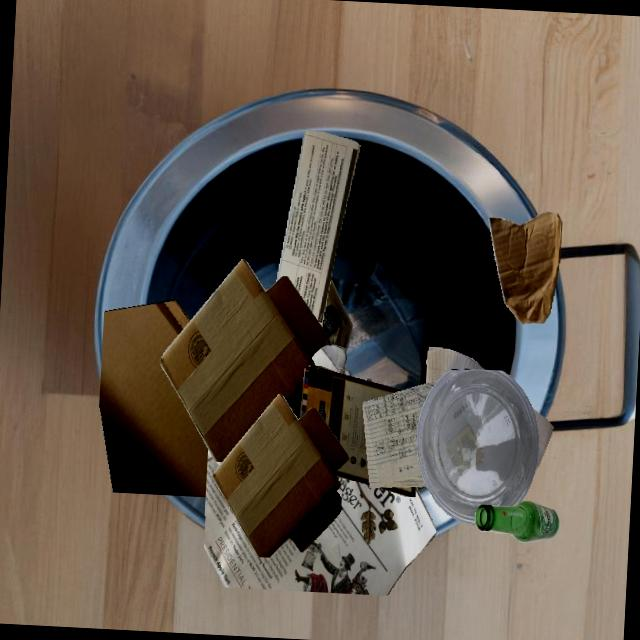cardboard: (159, 258, 328, 462), (212, 393, 348, 558), (99, 300, 208, 498), (300, 365, 403, 485), (488, 211, 562, 325)
glass: (475, 501, 559, 543)
paper: (204, 449, 436, 596), (276, 131, 360, 327), (362, 379, 439, 487), (321, 278, 352, 350), (427, 347, 484, 383), (533, 409, 553, 469), (322, 345, 352, 377)
plastic: (417, 369, 539, 525)
